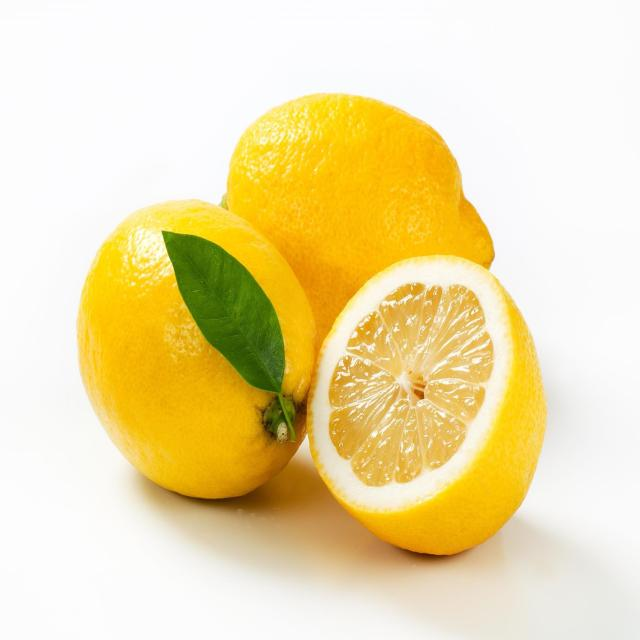lemon: (69, 187, 324, 518), (300, 245, 555, 560)
